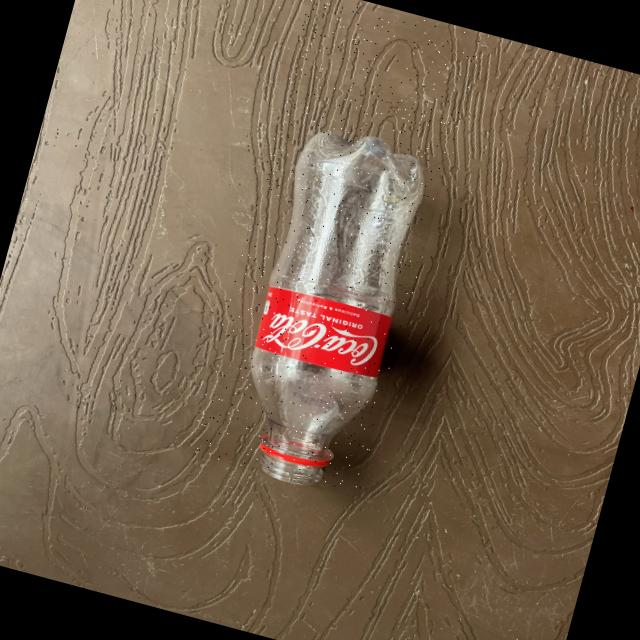REJECT: (187, 0, 482, 498)
